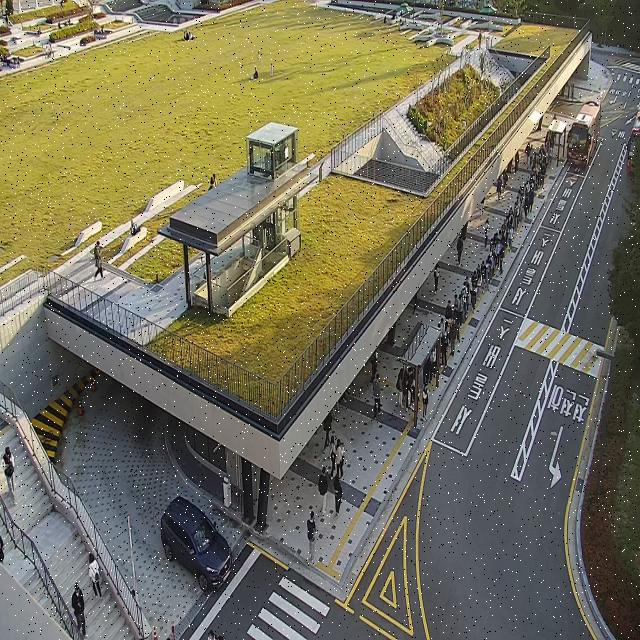queue: (416, 143, 546, 429)
